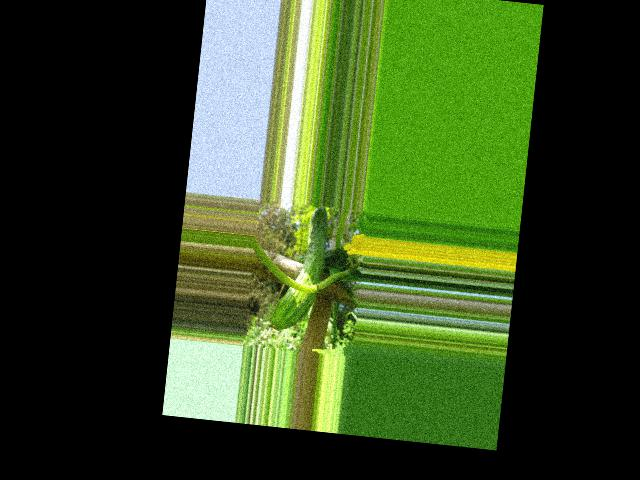cucumber: (270, 202, 330, 333)
